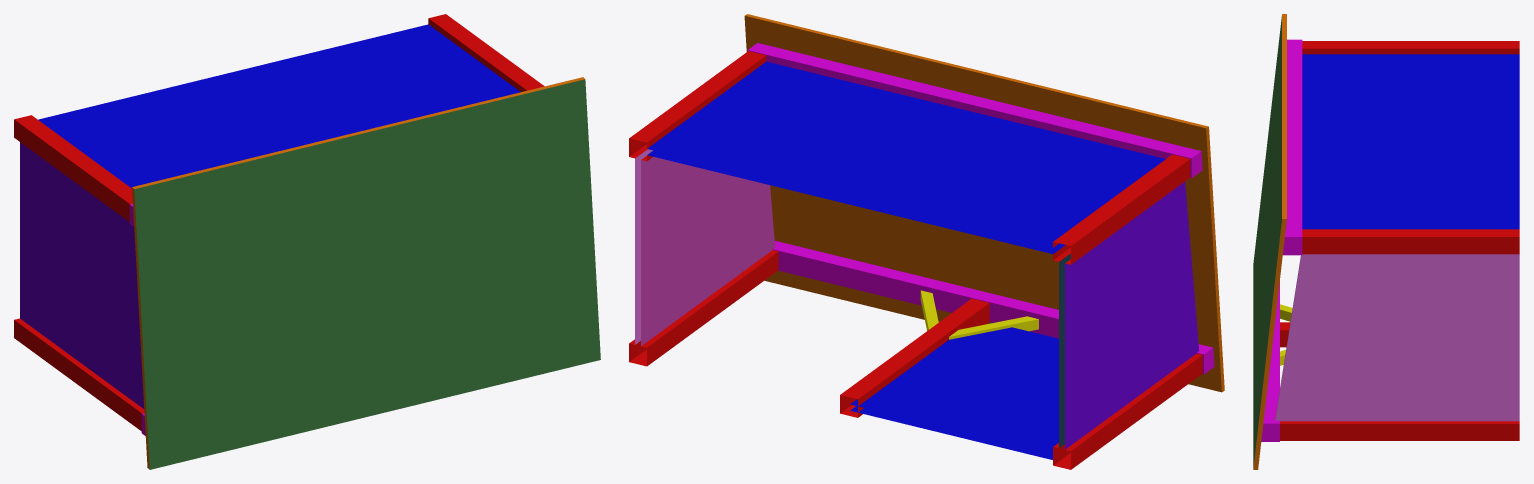
The model's file is Lighthouse_Building_E.fbx.
3 views of the same model, side by side, from view 1: azimuth 30°, elevation 25°; view 2: azimuth 150°, elevation 25°; view 3: azimuth 270°, elevation 25° (orthographic). The views are drawn at different scales.
Visible parts, largest first — view 1: Lighthouse_Building_E; view 2: Lighthouse_Building_E; view 3: Lighthouse_Building_E.
Part boxes in pixels (x1,y1,x2,y2): Lighthouse_Building_E: (14, 14, 600, 469); Lighthouse_Building_E: (629, 14, 1224, 469); Lighthouse_Building_E: (1253, 14, 1519, 469).
Bounding box in the file's own units: 517 × 295 × 284.
